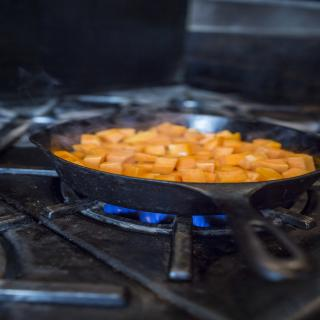Carrot: (152, 158, 181, 174)
